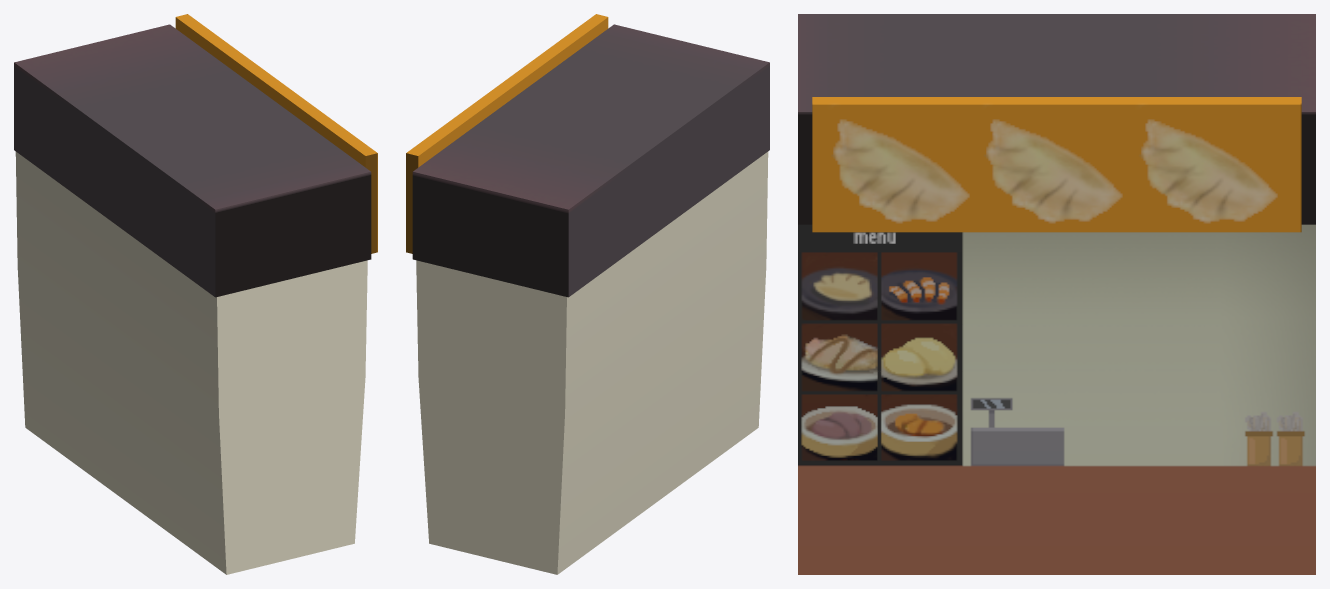
Rendered from FS_GyozaStore.fbx.
3 renders of one model, left to right at view 1: azimuth 30°, elevation 25°; view 2: azimuth 150°, elevation 25°; view 3: azimuth 270°, elevation 25°, orthographic. The views are drawn at different scales.
Parts seen in each view (by area): view 1: shop2, roof2, sign; view 2: shop2, roof2, sign; view 3: shop2, sign, roof2.
Boxes of the visible parts, x1=… form: shop2: x1=15, y1=151, x2=367, y2=574; roof2: x1=14, y1=24, x2=371, y2=297; sign: x1=175, y1=14, x2=377, y2=253; shop2: x1=416, y1=151, x2=768, y2=574; roof2: x1=412, y1=24, x2=769, y2=297; sign: x1=406, y1=14, x2=608, y2=253; shop2: x1=798, y1=224, x2=1315, y2=574; sign: x1=812, y1=97, x2=1301, y2=232; roof2: x1=798, y1=14, x2=1315, y2=224.
Size of the model in its own units: 60.27 by 130 by 125.
1 material, 1 textured.
